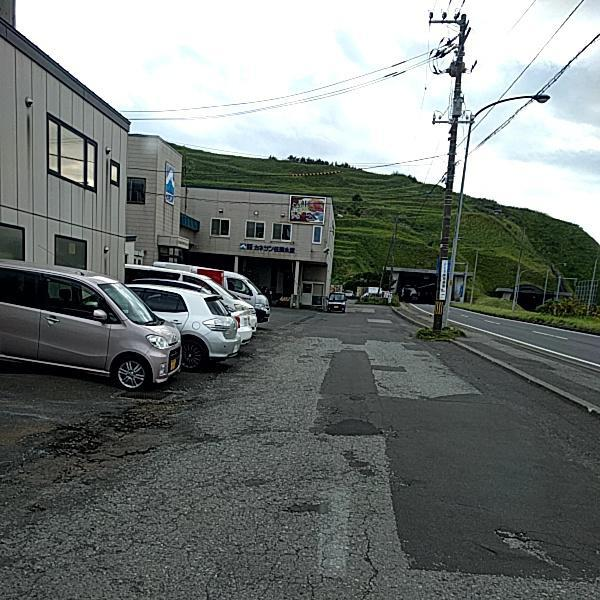D20: (80, 420, 390, 599)
D40: (496, 526, 554, 562)
